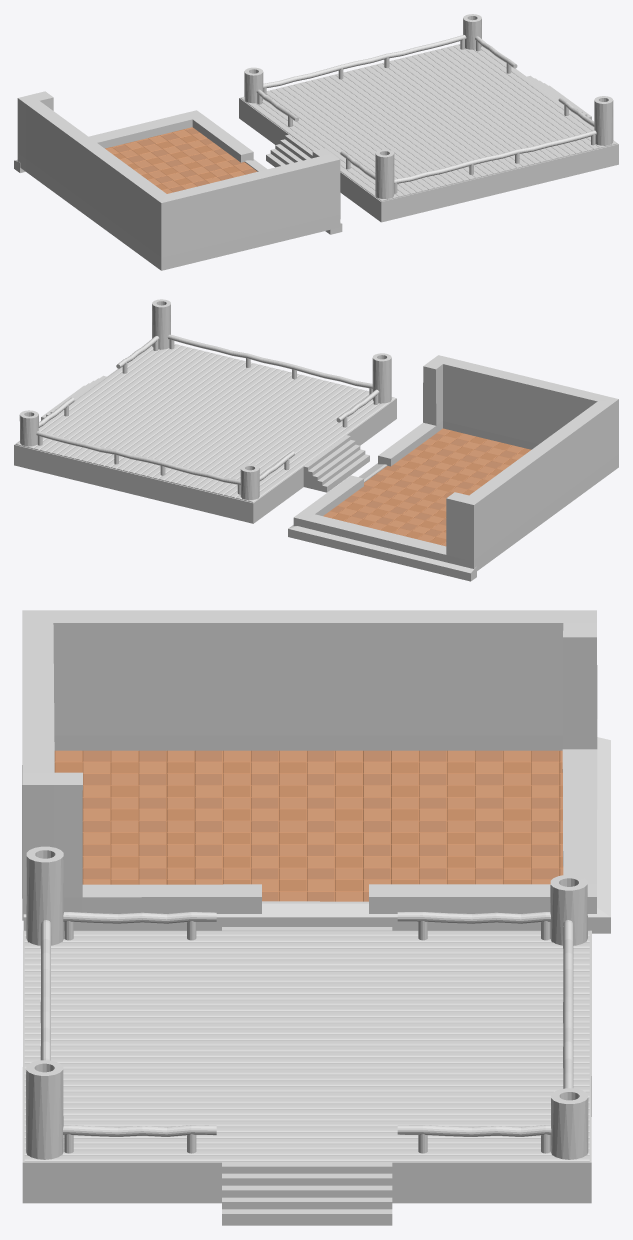
The model's file is BaseMap 1.1.fbx.
The picture shows the model from 3 angles, top to bottom: view 1: azimuth 30°, elevation 25°; view 2: azimuth 150°, elevation 25°; view 3: azimuth 270°, elevation 25°; orthographic projection. The views are drawn at different scales.
Parts seen in each view (by area): view 1: Cube.004, Cube, Plane.001, Cube.006, Cylinder, Cylinder.005, Cylinder.001, Cylinder.002, Cube.005, Cylinder.004, Cylinder.003, Cylinder.006 (+1 smaller); view 2: Cube.004, Cube, Cube.006, Plane.001, Cube.001, Cube.005, Cylinder, Cylinder.005, Cylinder.001, Cylinder.002, Cylinder.004, Cylinder.003; view 3: Cube.004, Cube, Cube.006, Plane.001, Cube.003, Cube.001, Cylinder.002, Cylinder.001, Cylinder.003, Cylinder.004, Cylinder.006, Cylinder.009 (+4 smaller).
Part boxes in pixels (left/top/right/bottom): Cube.004: left=240, top=44, right=617, bottom=201; Cube: left=17, top=91, right=340, bottom=270; Plane.001: left=239, top=68, right=618, bottom=222; Cube.006: left=105, top=127, right=257, bottom=193; Cylinder: left=263, top=35, right=466, bottom=94; Cylinder.005: left=394, top=130, right=596, bottom=193; Cylinder.001: left=375, top=149, right=394, bottom=199; Cylinder.002: left=594, top=96, right=613, bottom=145; Cube.005: left=266, top=134, right=312, bottom=167; Cylinder.004: left=244, top=67, right=263, bottom=103; Cylinder.003: left=463, top=14, right=481, bottom=49; Cylinder.006: left=475, top=36, right=517, bottom=73; Cube.004: left=15, top=344, right=395, bottom=502; Cube: left=293, top=355, right=618, bottom=570; Cube.006: left=323, top=428, right=531, bottom=546; Plane.001: left=14, top=368, right=396, bottom=523; Cube.001: left=288, top=463, right=476, bottom=581; Cube.005: left=303, top=435, right=369, bottom=492; Cylinder: left=36, top=431, right=240, bottom=494; Cylinder.005: left=168, top=334, right=372, bottom=394; Cylinder.001: left=372, top=353, right=391, bottom=403; Cylinder.002: left=152, top=299, right=170, bottom=349; Cylinder.004: left=240, top=464, right=259, bottom=500; Cylinder.003: left=19, top=410, right=38, bottom=446; Cube.004: left=24, top=930, right=589, bottom=1161; Cube: left=22, top=610, right=597, bottom=920; Cube.006: left=54, top=750, right=563, bottom=901; Plane.001: left=22, top=930, right=591, bottom=1203; Cube.003: left=222, top=1162, right=392, bottom=1225; Cube.001: left=23, top=737, right=610, bottom=933; Cylinder.002: left=26, top=1060, right=63, bottom=1159; Cylinder.001: left=26, top=846, right=63, bottom=945; Cylinder.003: left=550, top=1088, right=588, bottom=1159; Cylinder.004: left=550, top=875, right=587, bottom=945; Cylinder.006: left=397, top=1125, right=551, bottom=1153; Cylinder.009: left=63, top=912, right=216, bottom=940.
Bounding box in the file's own units: 6088 × 889 × 3229.
